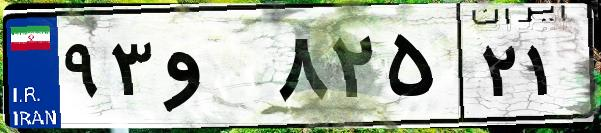1: (525, 38, 570, 115)
2: (330, 28, 385, 110), (475, 38, 525, 113)
3: (110, 28, 158, 98)
5: (385, 28, 445, 110)
8: (270, 28, 330, 110)
9: (57, 26, 110, 100)
و: (158, 20, 270, 120)
